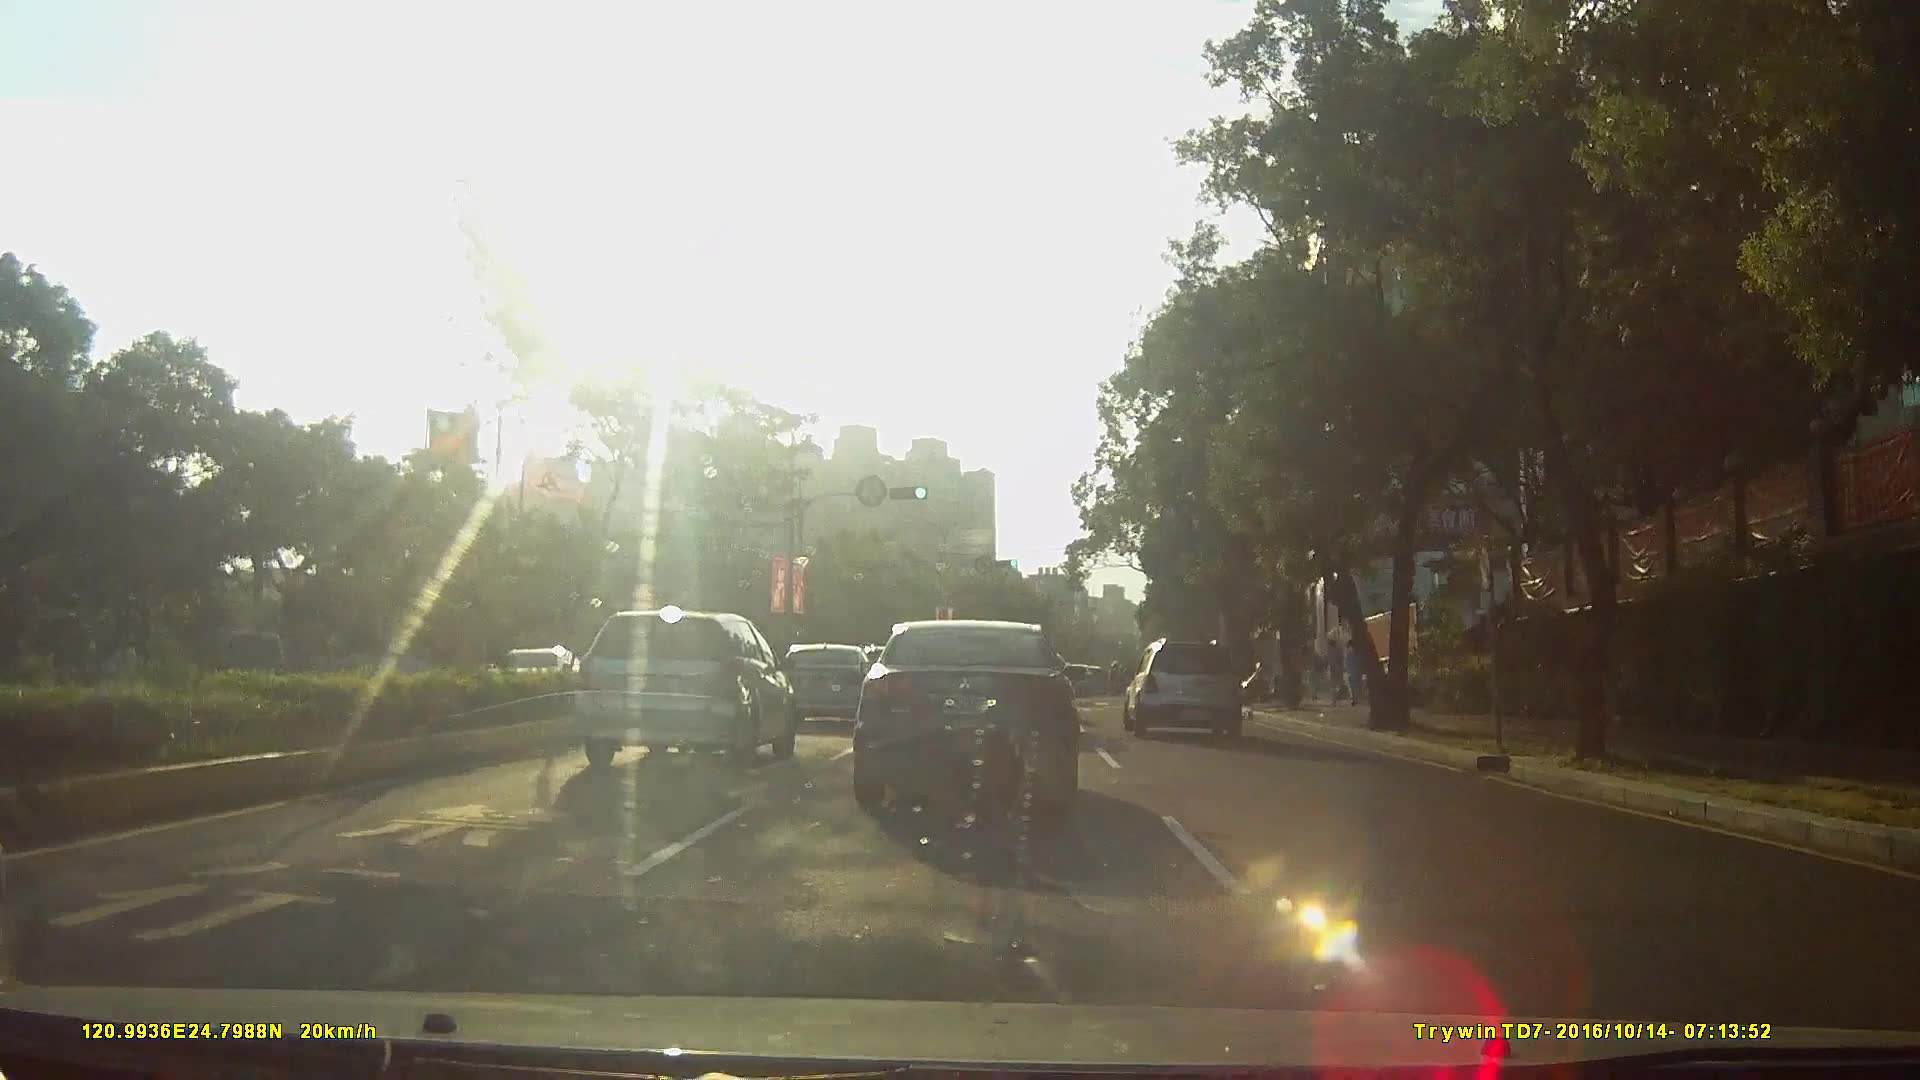pedestrian: (1321, 638, 1345, 713)
vehicle: (851, 613, 1082, 820), (569, 606, 794, 771), (1119, 639, 1253, 740), (770, 643, 883, 728)
